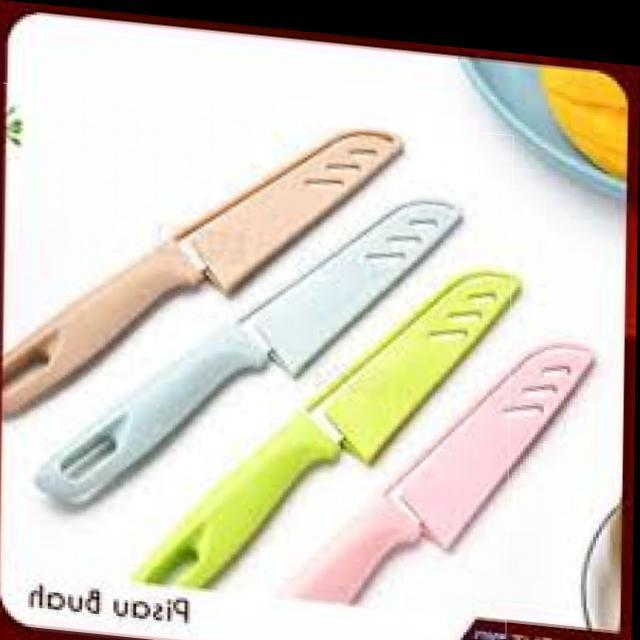knife: (35, 192, 464, 512), (129, 266, 526, 593), (0, 126, 404, 426), (280, 341, 596, 608)
